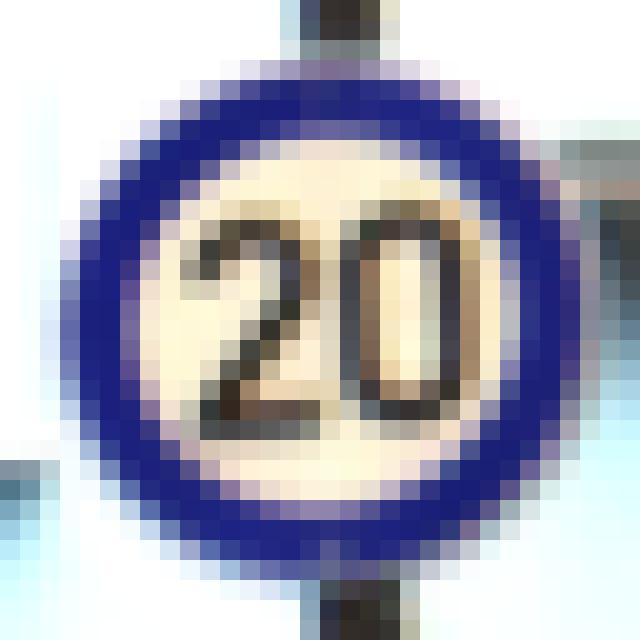SPEED LIMIT 20: (50, 73, 596, 582)
